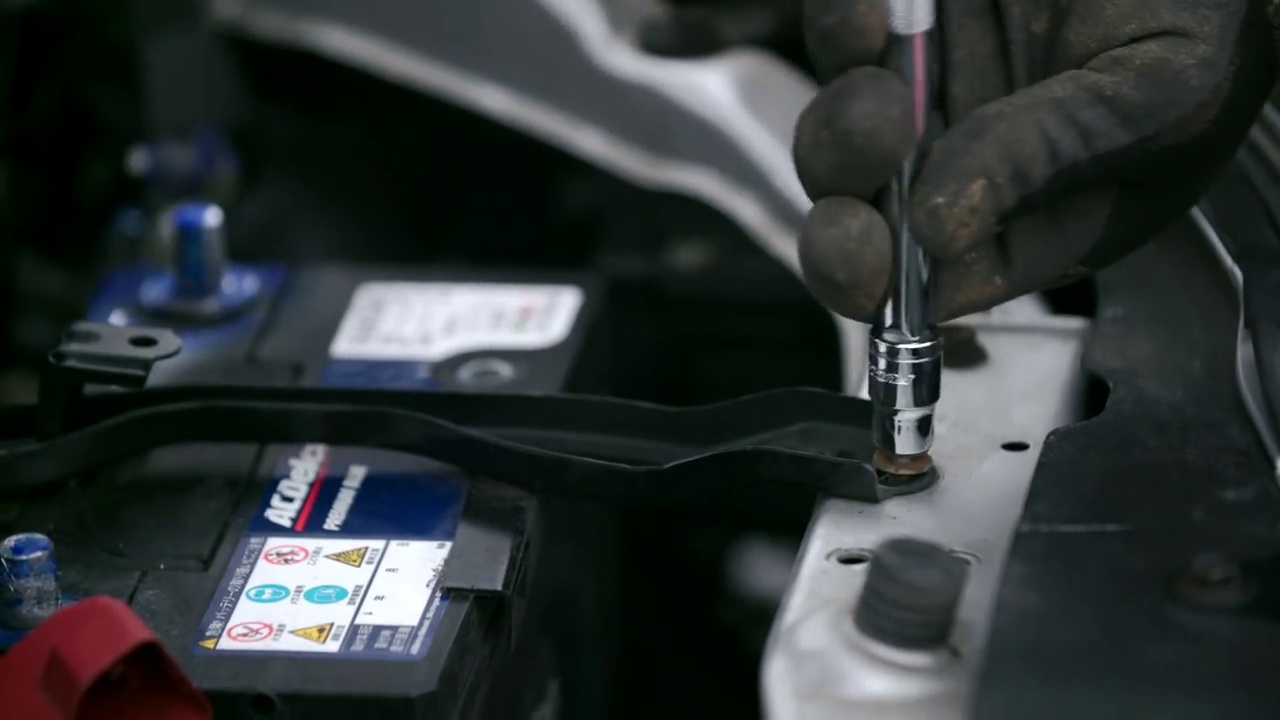battery: (6, 244, 595, 697)
